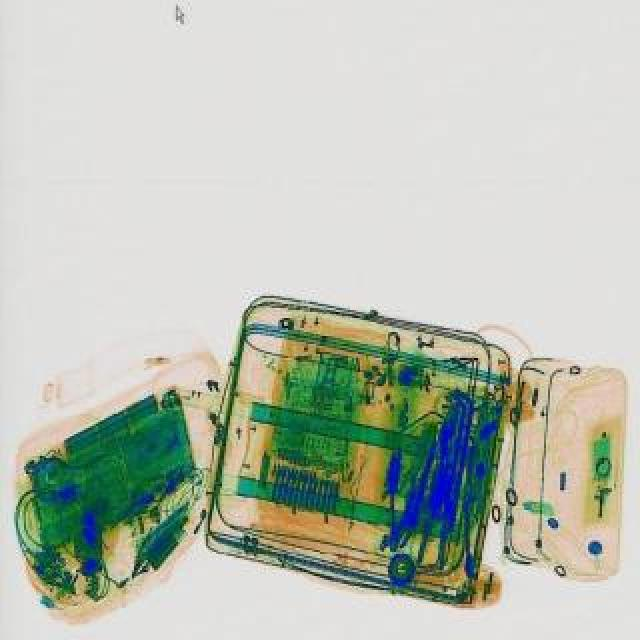wrench: (380, 458, 420, 550)
